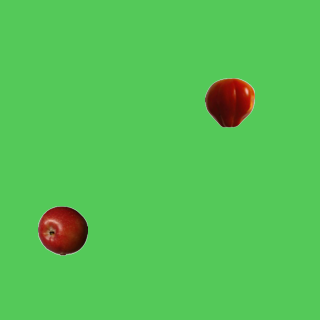Apple Braeburn: (37, 205, 87, 255)
Tomato 1: (204, 77, 254, 127)
